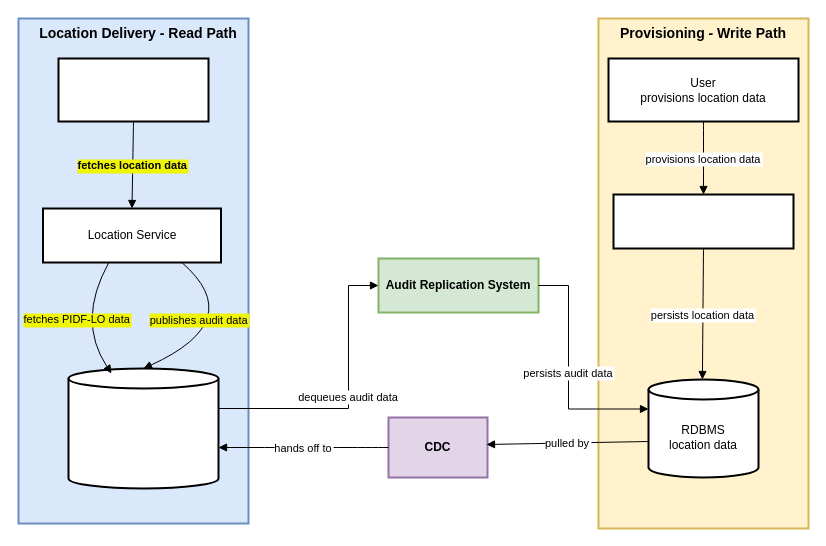
The diagram is 826 pixels wide and 546 high, and some of its shapes have lost their labels. The centre of each missing label's shape, as x and y in pixels:
"Provisioning Service" belongs at pixel 703 221.
"PSAP receives distress call" belongs at pixel 133 89.
"Redis PIDF-LO key/value data + audit Redis List" belongs at pixel 143 428.
